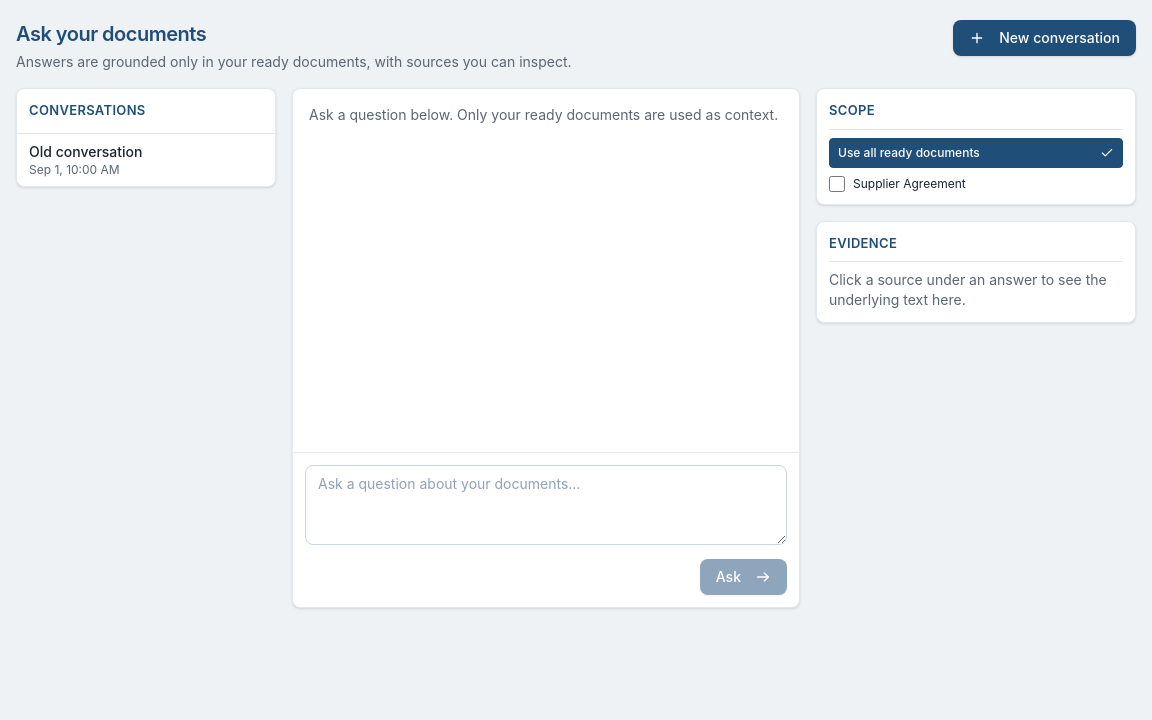
Test case: Chat screen › shows the evidence-unavailable message, not chunk text, on a 404
Click the text "Old conversation": (86, 151) [29, 142, 142, 160]
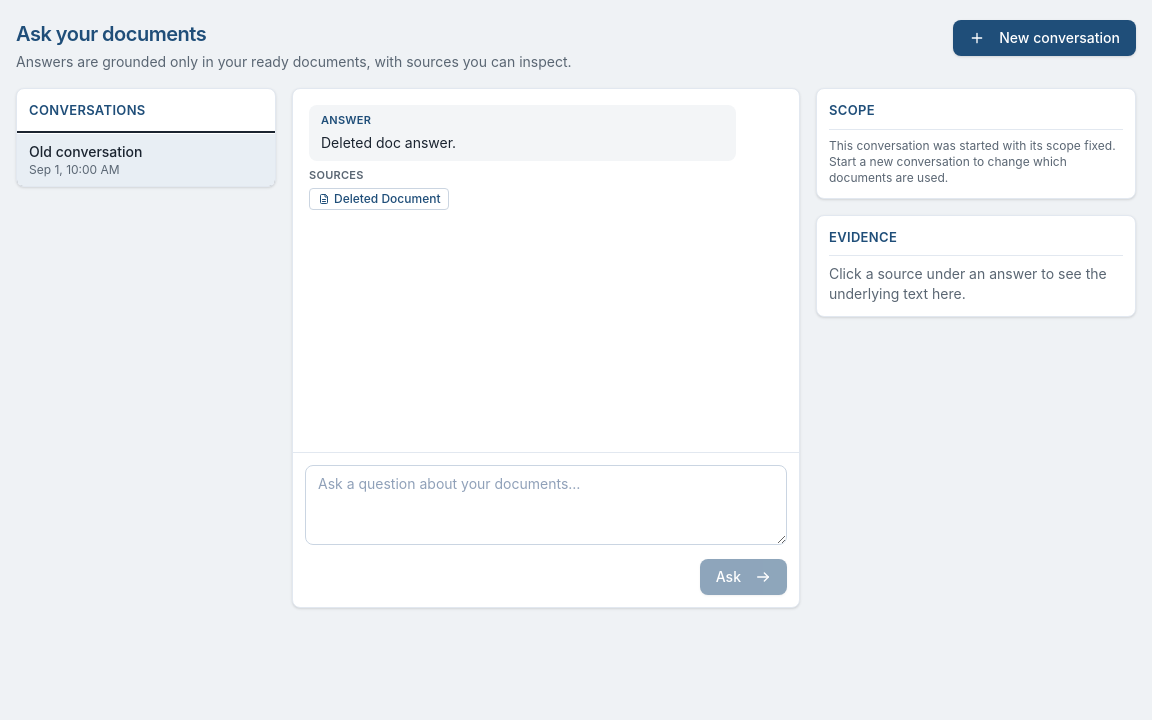
Expected: the text "Deleted doc answer." is shown, [321, 134, 456, 151]
Click the button "Deleted Document": (379, 199) [309, 188, 450, 210]
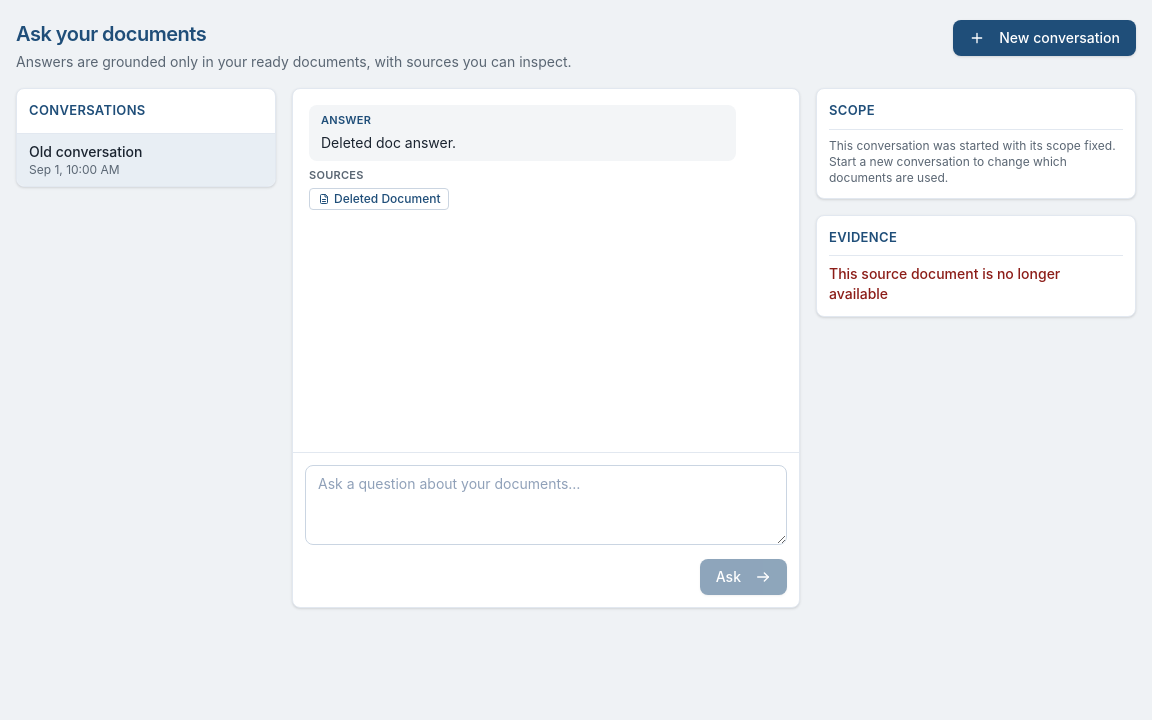
Expected: the text "This source document is no longer available" is shown, [829, 265, 1060, 302]
